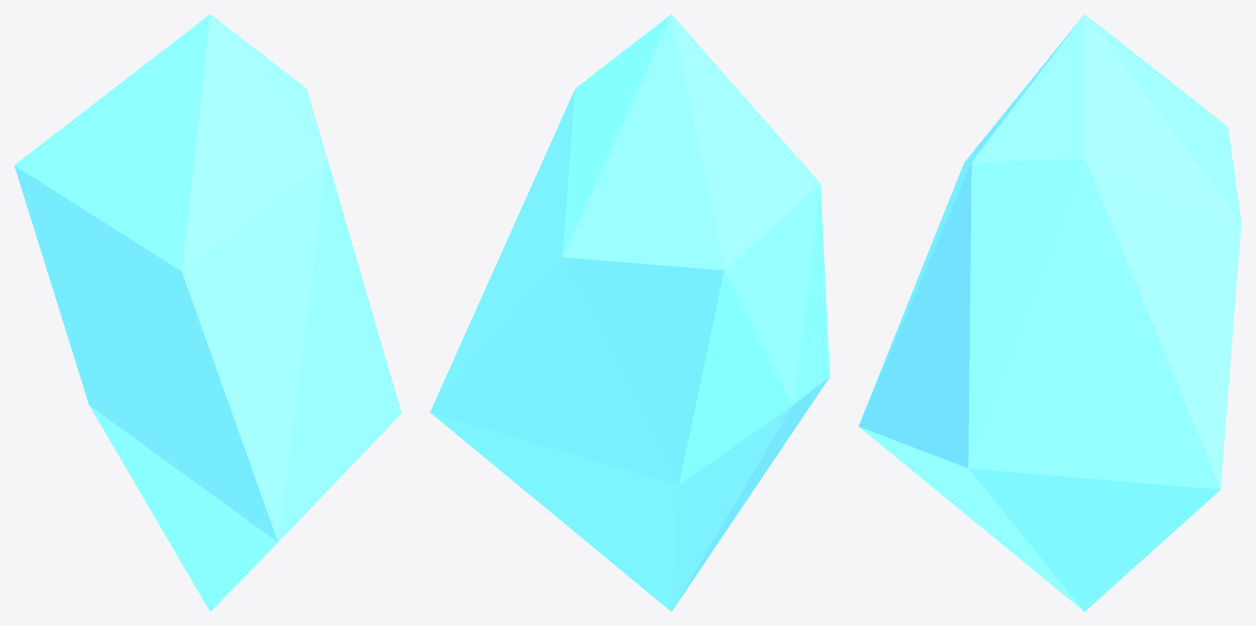
File: core_fragment_0.glb
The picture shows the model from 3 angles, left to right: view 1: azimuth 30°, elevation 25°; view 2: azimuth 150°, elevation 25°; view 3: azimuth 270°, elevation 25°; orthographic projection.
Parts seen in each view (by area): view 1: core_fragment_0; view 2: core_fragment_0; view 3: core_fragment_0.
Boxes of the visible parts, x1,y1,x2,y2 form: core_fragment_0: [14, 14, 401, 611]; core_fragment_0: [430, 14, 829, 611]; core_fragment_0: [858, 14, 1241, 611].
Size of the model in its own units: 0.1097 by 0.2103 by 0.1221.
